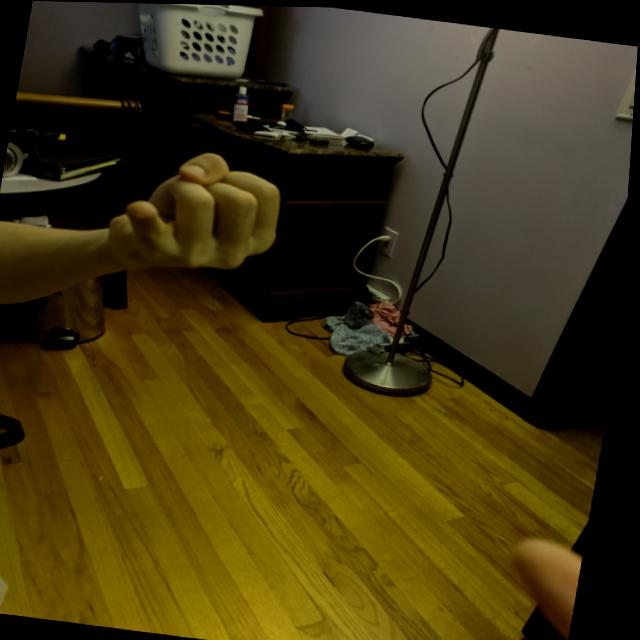J: (102, 133, 299, 285)
